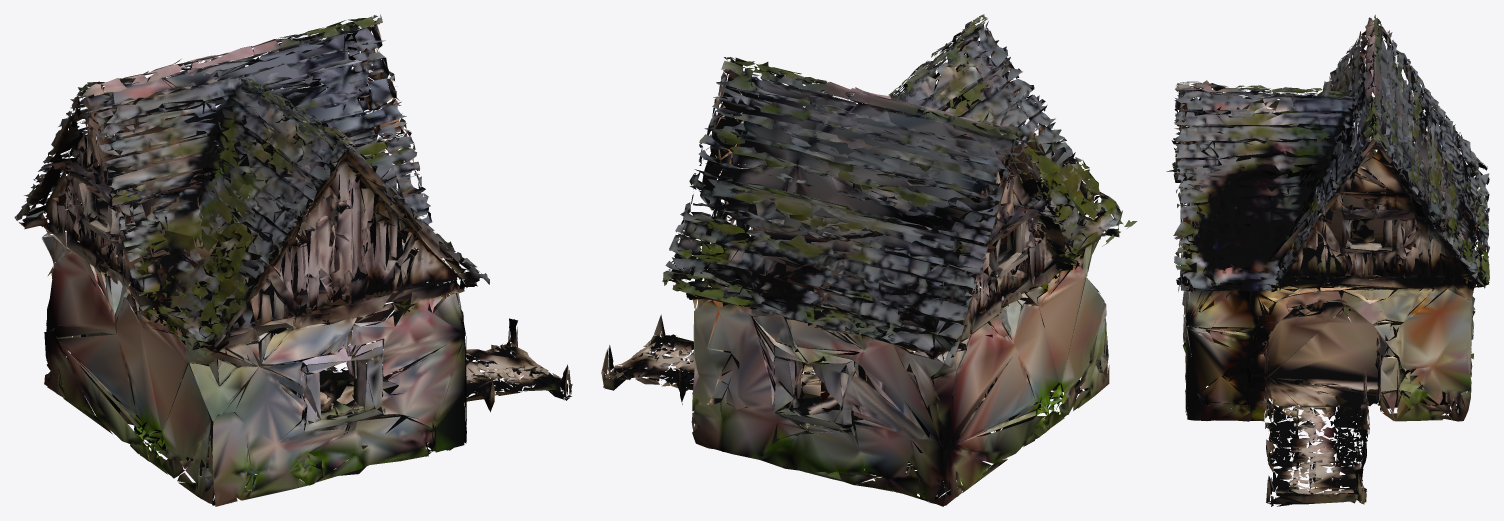
Rendered from boathouse.glb.
3 views of the same model, side by side, from view 1: azimuth 30°, elevation 25°; view 2: azimuth 150°, elevation 25°; view 3: azimuth 270°, elevation 25° (orthographic). The views are drawn at different scales.
Visible parts, largest first — view 1: boathouse_body; view 2: boathouse_body; view 3: boathouse_body.
Part boxes in pixels (bbox=[...]): boathouse_body: bbox=[14, 14, 572, 506]; boathouse_body: bbox=[601, 14, 1137, 506]; boathouse_body: bbox=[1166, 14, 1489, 506].
Size of the model in its own units: 10 by 8.25 by 7.63.
1 material, 1 textured.
